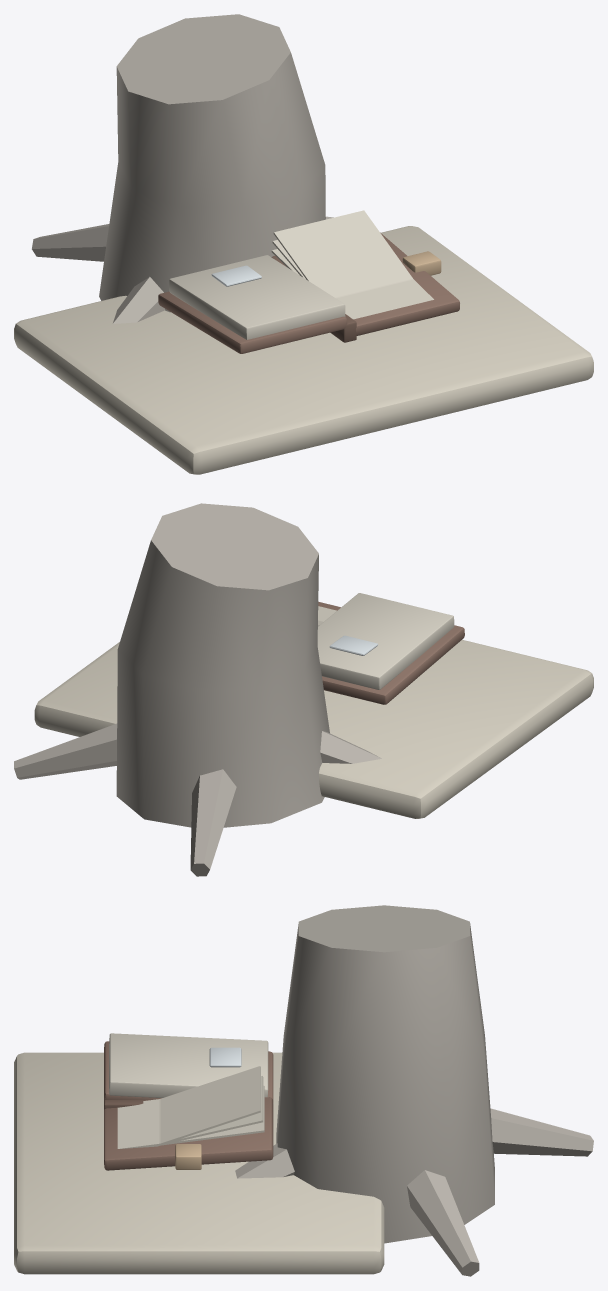
The model's file is quest_logbook.gltf.
3 renders of one model, top to bottom at view 1: azimuth 30°, elevation 25°; view 2: azimuth 150°, elevation 25°; view 3: azimuth 270°, elevation 25°, orthographic. The views are drawn at different scales.
Parts seen in each view (by area): view 1: Body, Pages, Glow; view 2: Body, Glow; view 3: Body, Pages, Glow.
Part boxes in pixels (x1,y1,x2,y2): Body: (14,14,593,474); Pages: (271,210,433,319); Glow: (211,265,261,286); Body: (14,503,593,876); Glow: (329,635,378,655); Body: (14,905,593,1276); Pages: (117,1066,264,1148); Glow: (209,1047,241,1067).
Size of the model in its own units: 0.9 by 0.5738 by 1.1.
